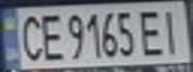1: (81, 9, 103, 58)
5: (115, 7, 139, 57)
6: (100, 8, 121, 59)
9: (63, 10, 87, 61)
C: (15, 10, 45, 63)
E: (136, 7, 169, 57), (36, 10, 66, 63)
I: (157, 6, 187, 55)
